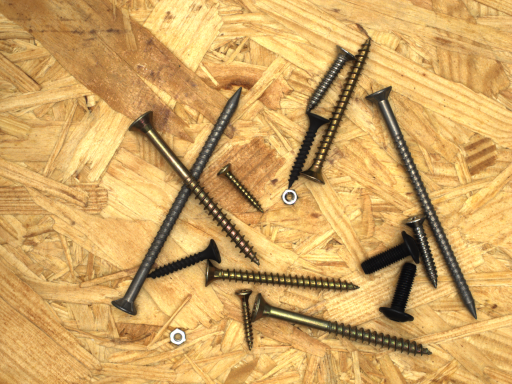screw_long: (92, 61, 271, 333), (348, 69, 507, 345)
